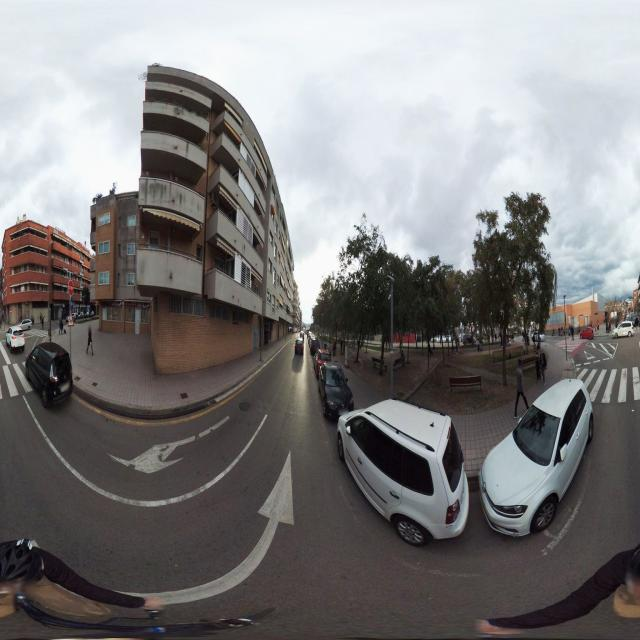car: (480, 375, 594, 537), (25, 338, 73, 406), (320, 362, 354, 422), (6, 324, 26, 354), (315, 349, 329, 380), (614, 319, 633, 340), (580, 325, 594, 340), (294, 336, 304, 356), (310, 338, 318, 358)
